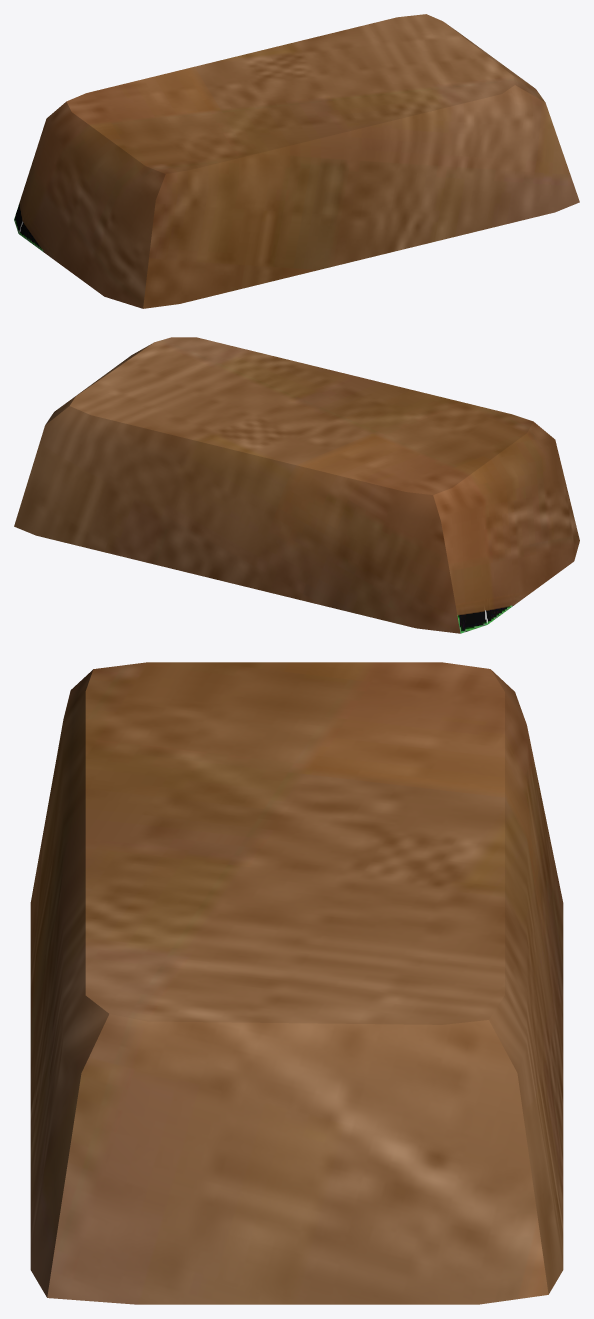
The picture shows the model from 3 angles, top to bottom: view 1: azimuth 30°, elevation 25°; view 2: azimuth 150°, elevation 25°; view 3: azimuth 270°, elevation 25°; orthographic projection. The views are drawn at different scales.
Parts seen in each view (by area): view 1: Box001; view 2: Box001; view 3: Box001.
Boxes of the visible parts, box(x1,y1,x2,y2) form: Box001: box(14, 14, 579, 308); Box001: box(14, 337, 579, 633); Box001: box(30, 662, 563, 1304).
Bounding box in the file's own units: 94.05 × 23.03 × 47.15.
Materials: 1 (1 with a texture image).
